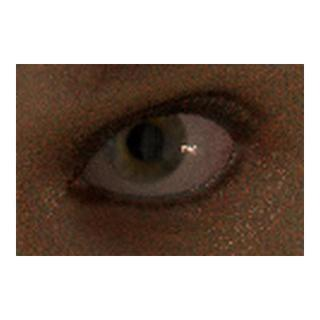pupil: (128, 124, 164, 160)
